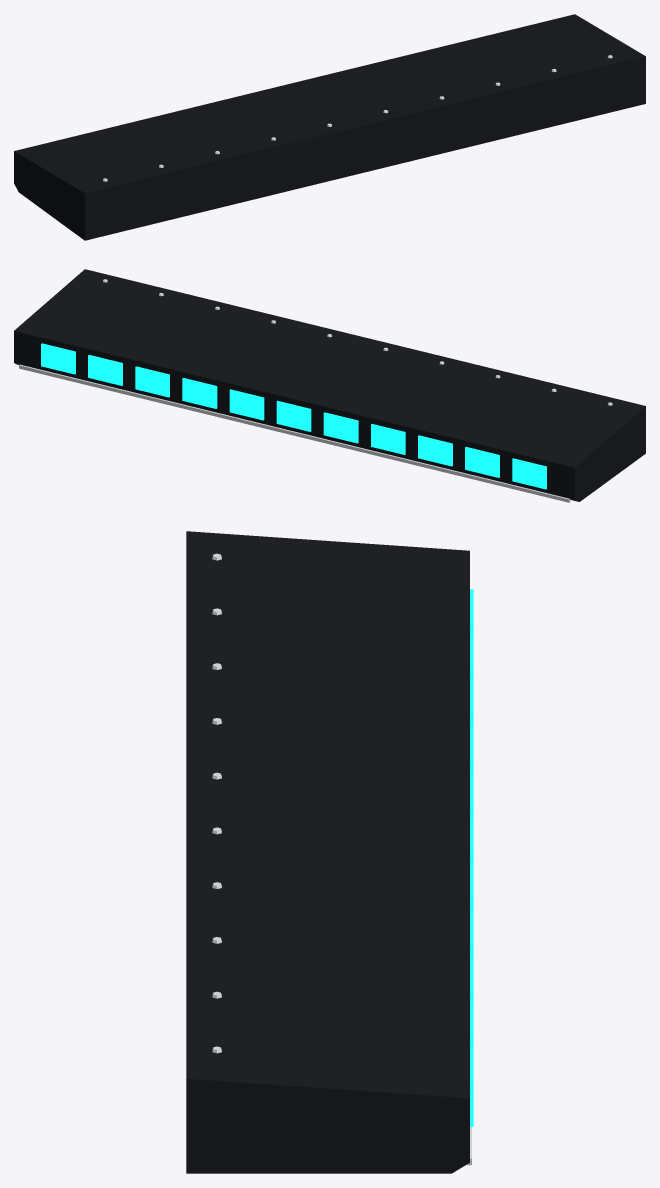
The model's file is visor_dash_long.glb.
The picture shows the model from 3 angles, top to bottom: view 1: azimuth 30°, elevation 25°; view 2: azimuth 150°, elevation 25°; view 3: azimuth 270°, elevation 25°; orthographic projection. The views are drawn at different scales.
Parts seen in each view (by area): view 1: visor_dash_long_deco_body; view 2: visor_dash_long_deco_body, visor_dash_long_deco_neon, visor_dash_long_chrome; view 3: visor_dash_long_deco_body, visor_dash_long_deco_neon.
Part boxes in pixels (x1,y1,x2,y2): visor_dash_long_deco_body: (14, 14, 645, 240); visor_dash_long_deco_body: (14, 269, 645, 501); visor_dash_long_deco_neon: (41, 343, 546, 489); visor_dash_long_chrome: (19, 279, 612, 502); visor_dash_long_deco_body: (186, 531, 469, 1173); visor_dash_long_deco_neon: (470, 589, 473, 1126).
Bounding box in the file's own units: 2.1 × 0.1755 × 0.466.
